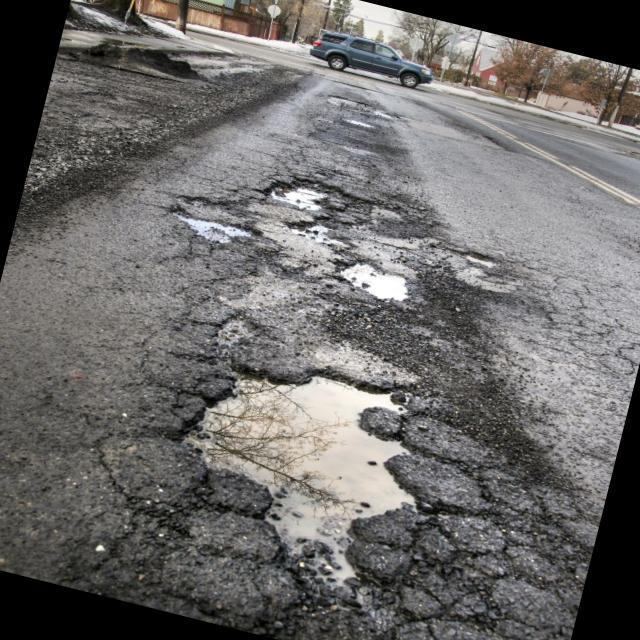Pothole: (133, 327, 553, 640), (393, 212, 553, 308), (325, 238, 451, 350), (160, 207, 284, 270), (272, 170, 366, 226), (309, 102, 387, 134)
